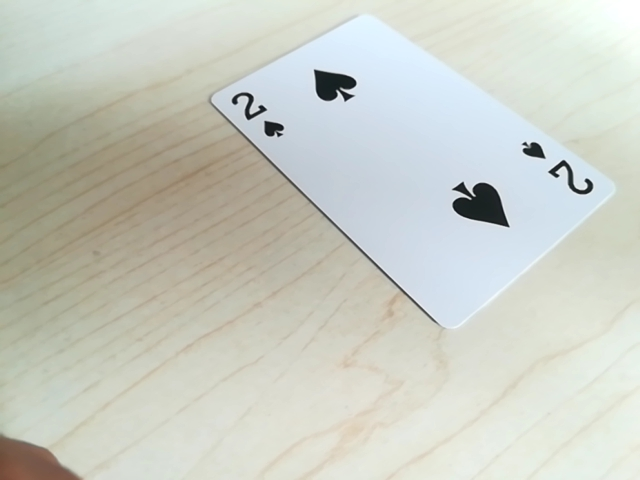ht 2: (517, 135, 600, 203), (219, 82, 289, 143)
